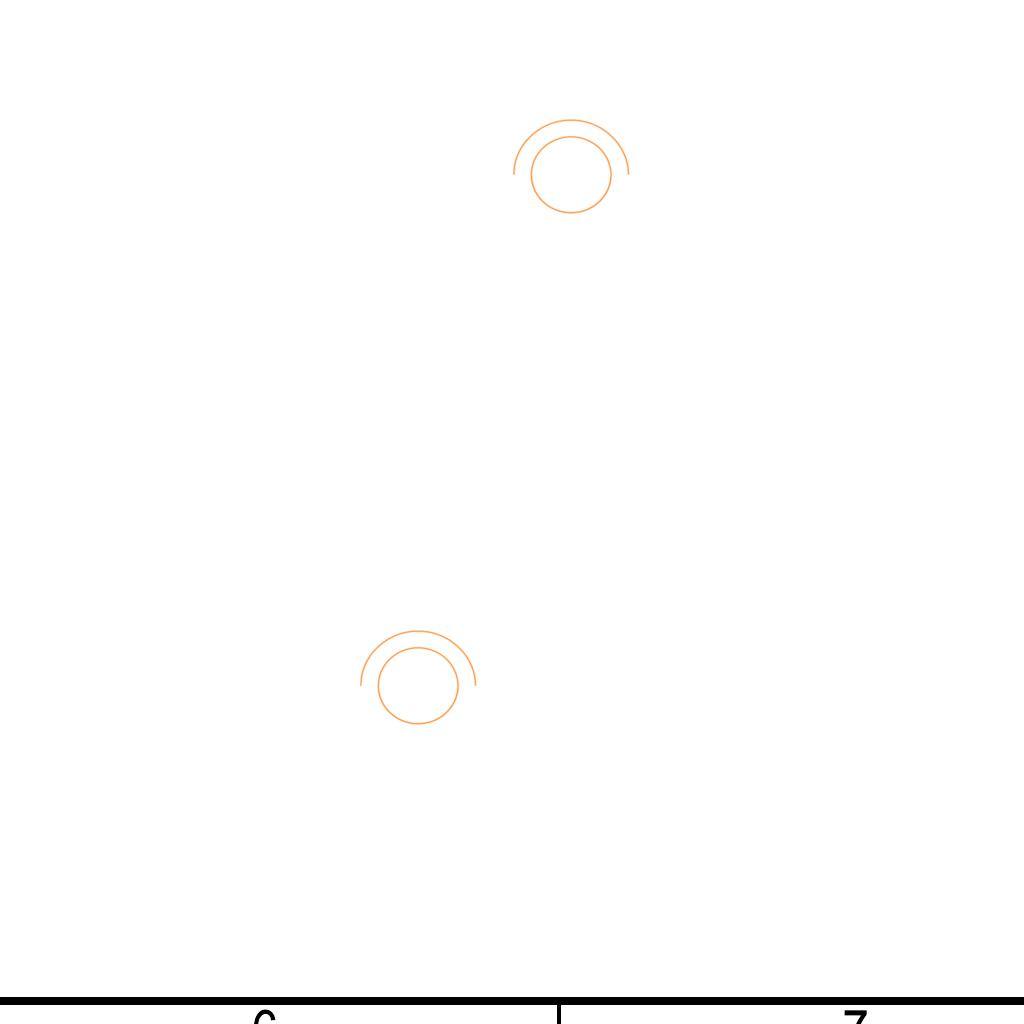Scheinwerfer_fuer_Alarmbeleuchtung: (349, 625, 481, 737), (502, 114, 634, 226)
